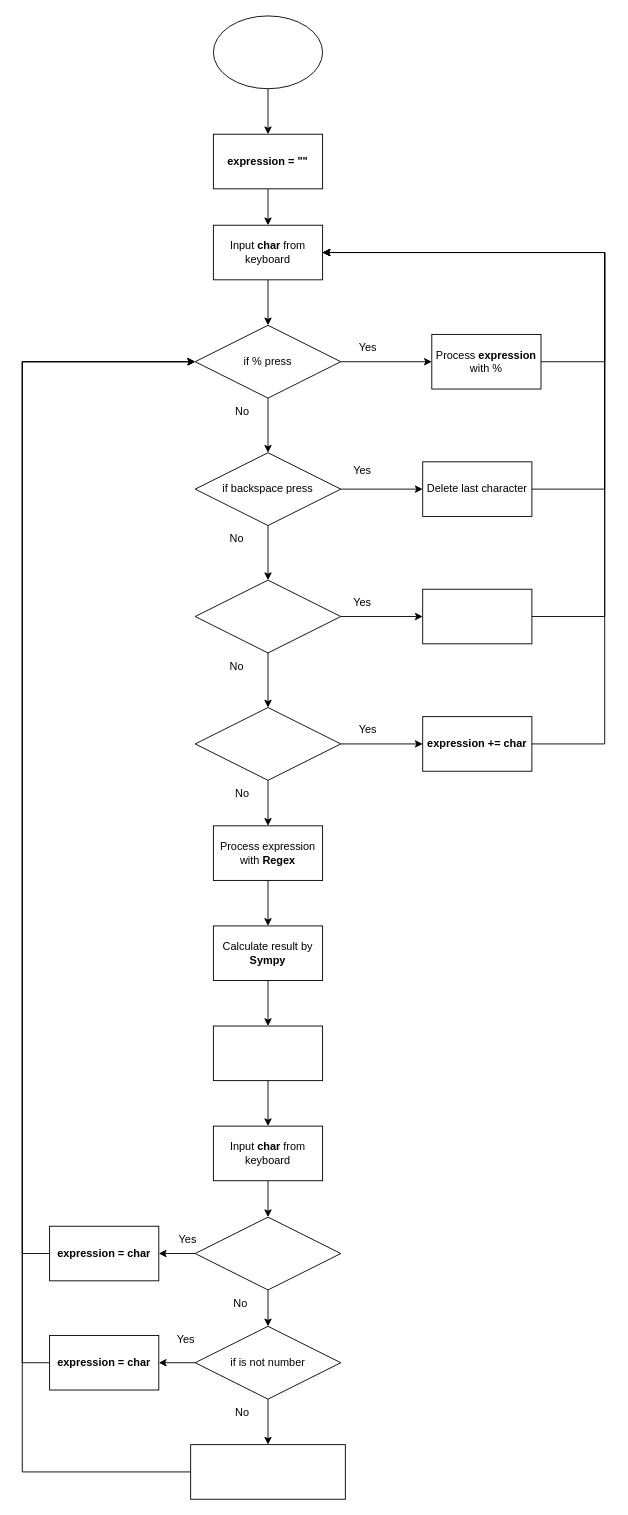
This 628x1515 diagram has some shape labels left out. The shapes that lost their labels are listed below. From the top down, each one's centre as x and y in pixels, then its label:
(x=267, y=52): Start
(x=267, y=616): if delete press
(x=477, y=616): Delete all character in expression
(x=267, y=743): if not (enter press)
(x=267, y=1053): Display result
(x=267, y=1253): if ERROR or INFINITY
(x=267, y=1471): expression = result + char
